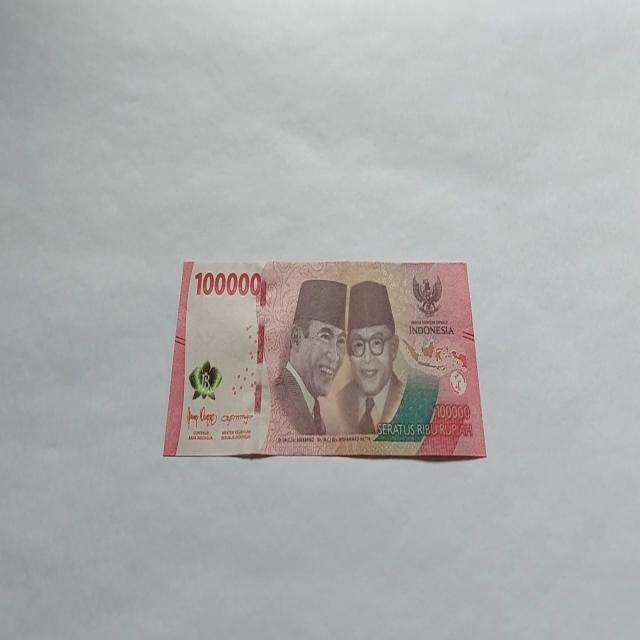seratus ribu rupiah: (163, 256, 487, 462), (263, 277, 348, 450)
